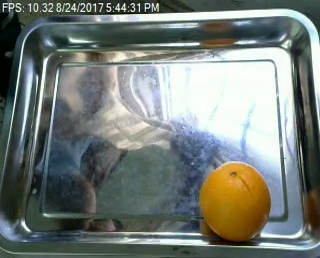Orange: (198, 160, 272, 240)
